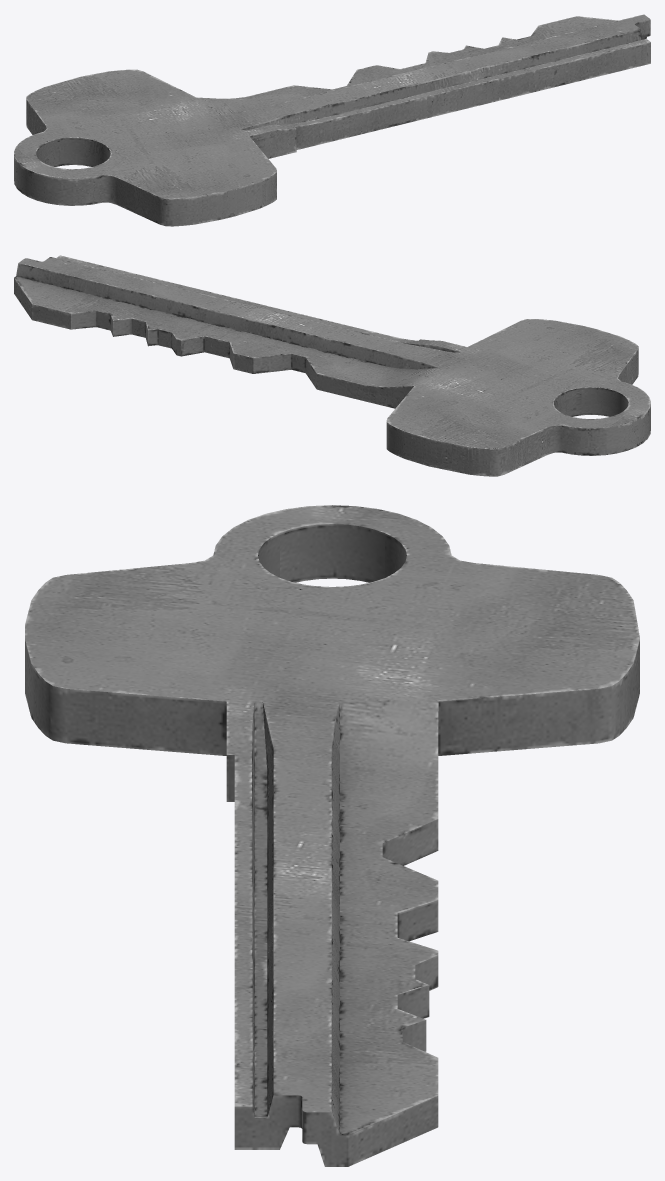
File: key_1.glb
3 views of the same model, one above another, from view 1: azimuth 30°, elevation 25°; view 2: azimuth 150°, elevation 25°; view 3: azimuth 270°, elevation 25° (orthographic). The views are drawn at different scales.
Parts seen in each view (by area): view 1: Circle; view 2: Circle; view 3: Circle.
Boxes of the visible parts, x1,y1,x2,y2 form: Circle: (14,14,650,226); Circle: (14,255,650,476); Circle: (25,505,639,1166).
Bounding box in the file's own units: 57.25 × 2.4 × 24.52.
Materials: 1 (1 with a texture image).
